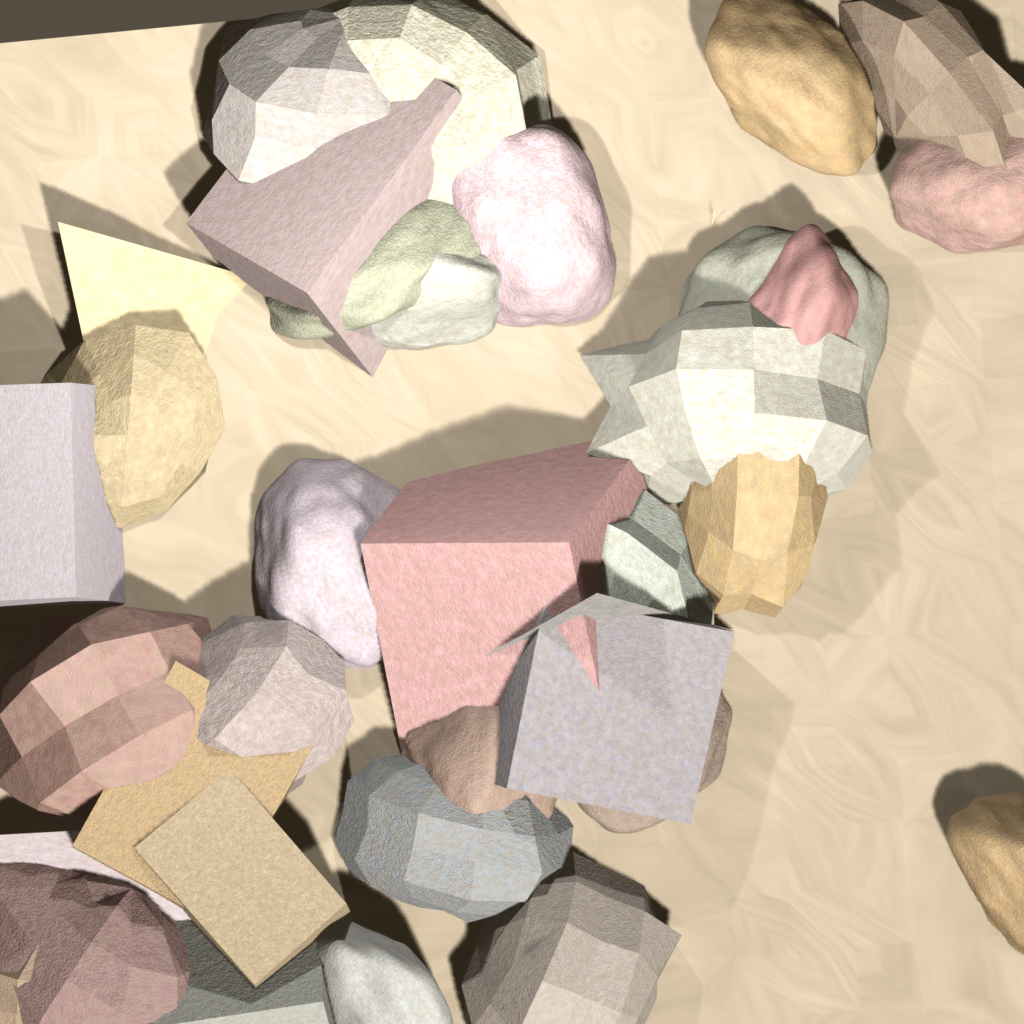rock: (193, 0, 626, 328), (433, 410, 769, 811), (538, 250, 946, 569), (184, 17, 531, 389), (49, 547, 418, 895), (360, 45, 687, 409), (0, 535, 336, 889), (357, 431, 698, 772), (615, 155, 945, 507), (0, 218, 342, 551), (486, 559, 788, 899), (227, 78, 524, 413), (182, 408, 503, 717), (144, 0, 517, 260), (0, 779, 391, 1023), (283, 697, 627, 956), (0, 264, 268, 590), (392, 544, 763, 770), (638, 305, 860, 679), (429, 567, 735, 827), (682, 163, 907, 515), (371, 593, 597, 930), (778, 0, 1023, 306), (237, 186, 576, 401), (401, 812, 722, 1023), (70, 660, 319, 932), (0, 787, 286, 1023), (663, 0, 926, 234), (134, 765, 361, 1014), (244, 842, 510, 1023), (872, 714, 1023, 1023), (0, 876, 274, 1023), (859, 52, 1023, 292), (0, 378, 157, 616), (126, 863, 353, 1023), (4, 916, 259, 1023), (101, 971, 470, 1023)
